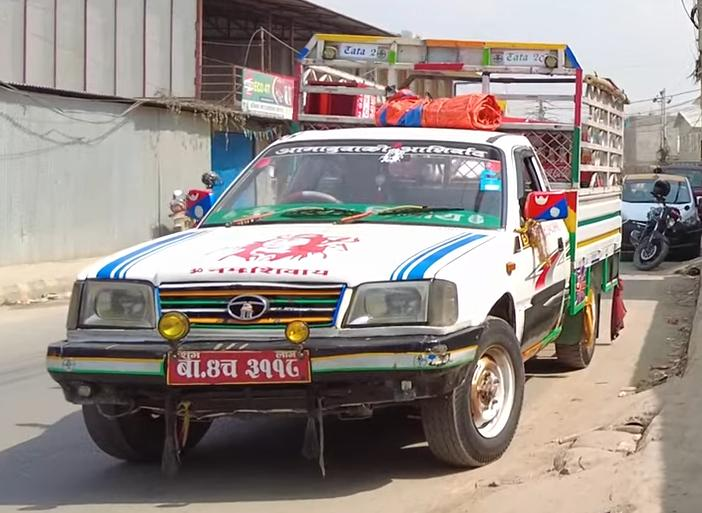bike: (633, 198, 693, 276)
taxi: (611, 160, 702, 262)
transport_vehicle: (42, 33, 631, 471)
